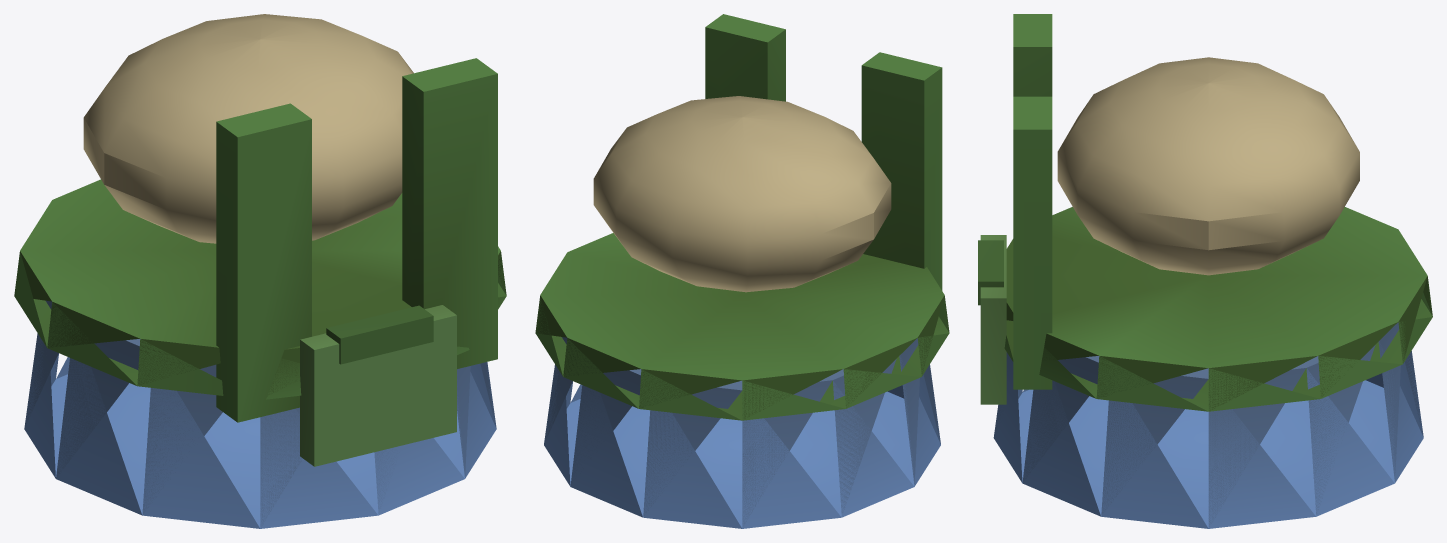
Rendered from boy-balloon-body.glb.
The picture shows the model from 3 angles, left to right: view 1: azimuth 30°, elevation 25°; view 2: azimuth 150°, elevation 25°; view 3: azimuth 270°, elevation 25°; orthographic projection. The views are drawn at different scales.
Visible parts, largest first — view 1: player_boy-balloon:body; view 2: player_boy-balloon:body; view 3: player_boy-balloon:body.
Boxes of the visible parts, x1,y1,x2,y2 form: player_boy-balloon:body: (14,14,506,528); player_boy-balloon:body: (535,14,949,528); player_boy-balloon:body: (978,14,1432,528).
Bounding box in the file's own units: 0.344 × 0.31 × 0.349.
